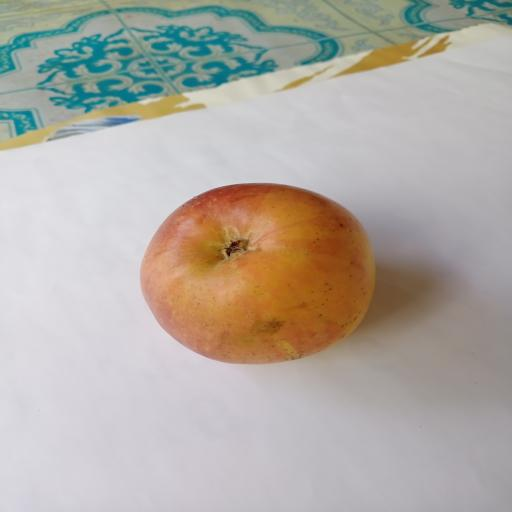apple-ripe: (125, 172, 393, 379)
